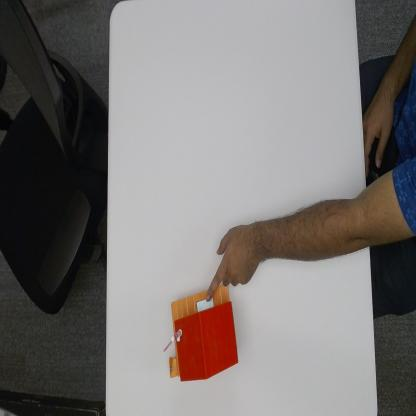Arm: (258, 197, 370, 265)
Hand: (204, 187, 260, 290)
House: (165, 288, 239, 380)
